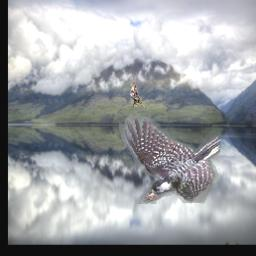Sparrow: (129, 83, 145, 114)
Woodpecker: (119, 114, 220, 205)
